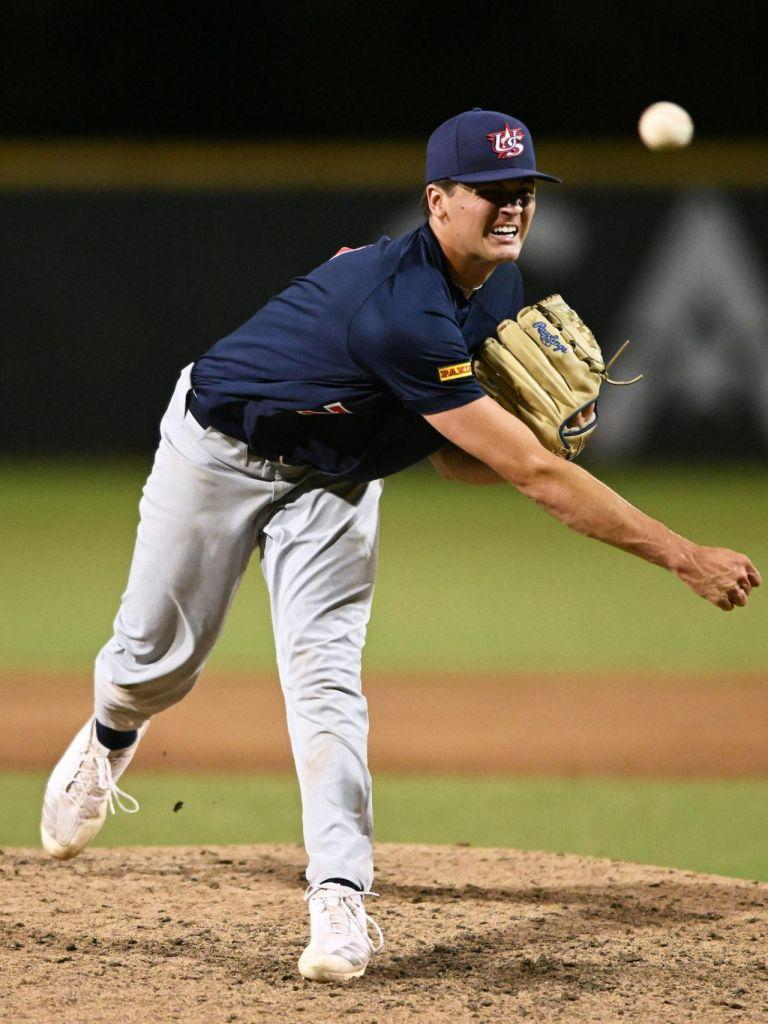baseball: (637, 104, 693, 151)
